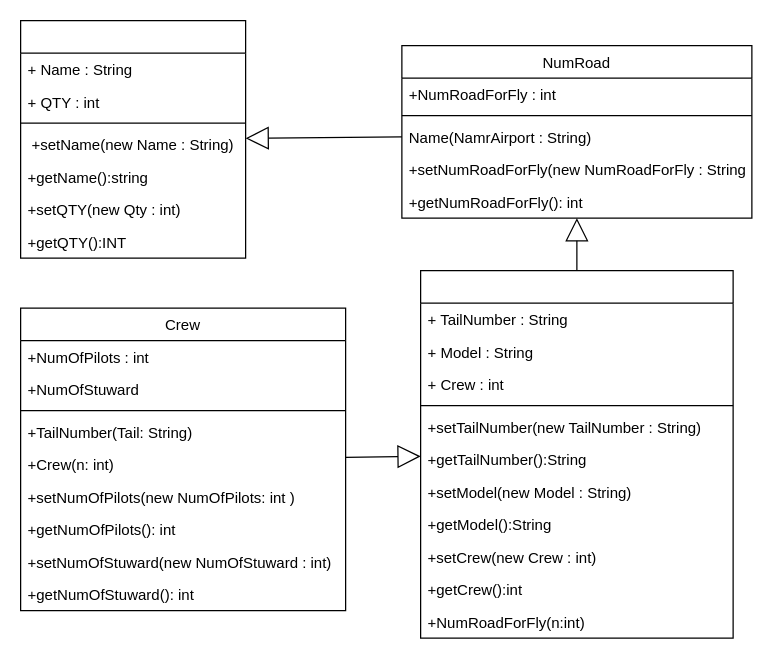
Image size: 773x659. Some labels were removed from this diagram. The shapes that lost their labels are listed below. From the top down, each one's box as (x1, y1, x2, y2) in pixels, then its label:
(19, 19, 246, 258): Airport
(419, 269, 733, 638): Airplane
